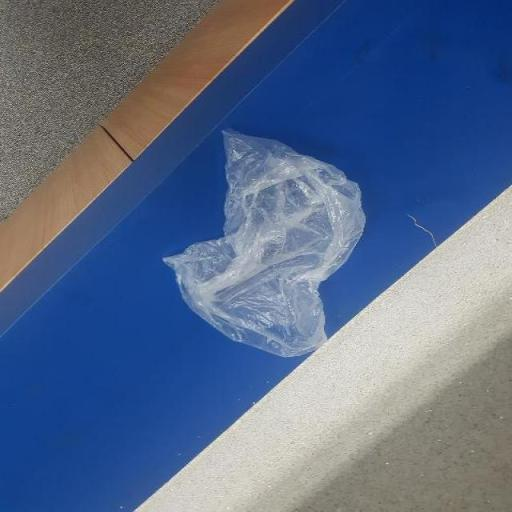plastic-bag: (158, 126, 368, 360)
